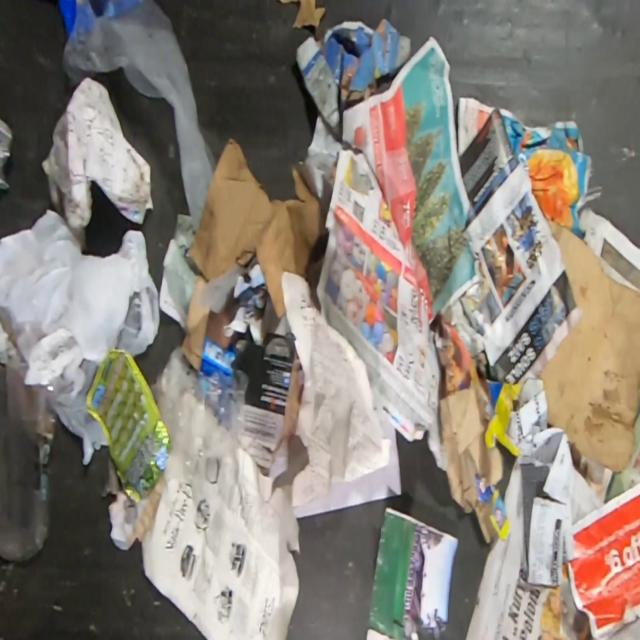rigid_plastic: (0, 363, 58, 563)
soft_plastic: (0, 208, 160, 465), (60, 0, 218, 228), (85, 348, 174, 503), (149, 345, 250, 478)
